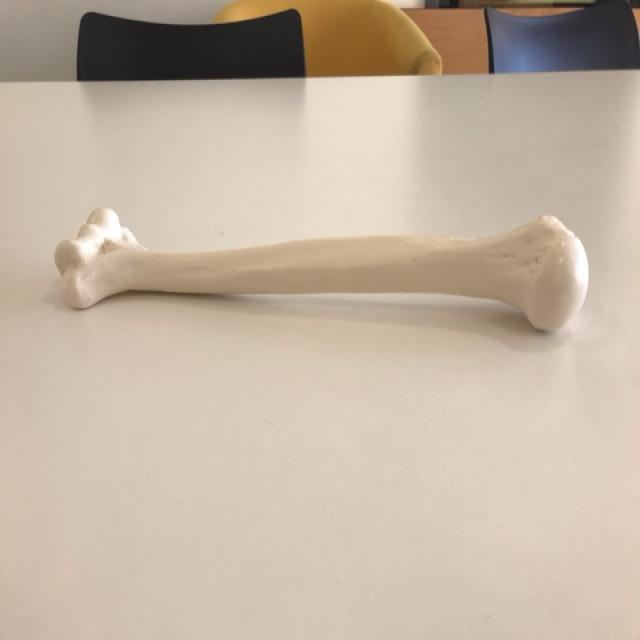bone: (52, 203, 590, 337)
